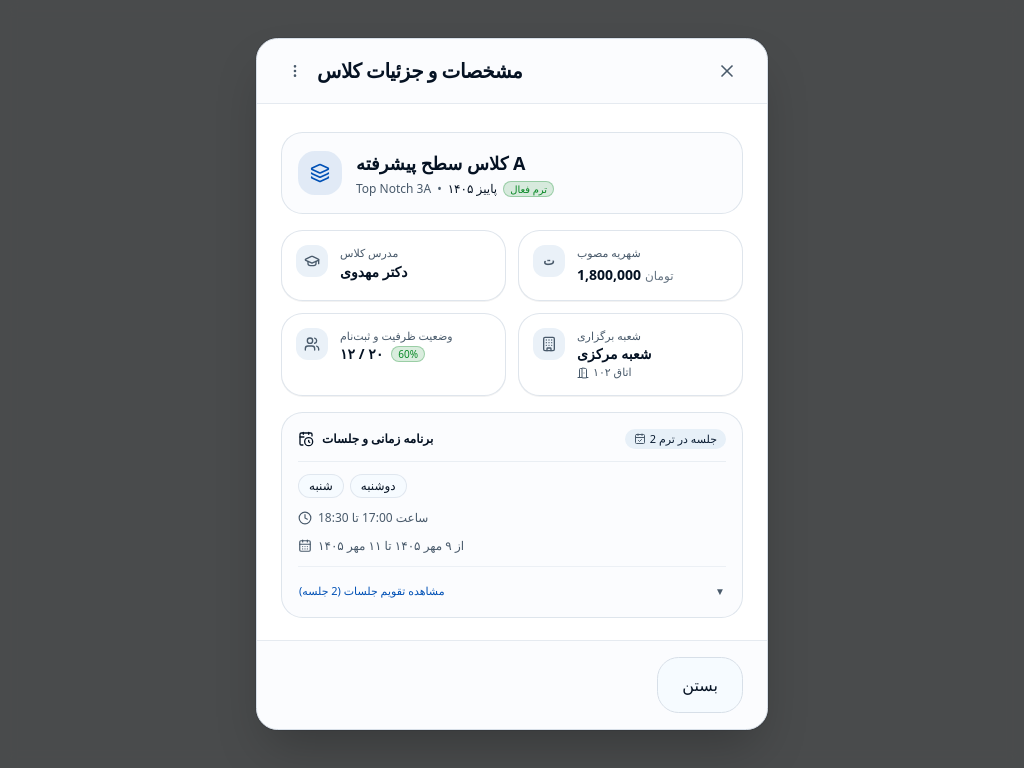
Test case: ClassDetailsModal Component › should toggle session dates list when clicking session dates toggle
Step 1. Click the text "مشاهده تقویم جلسات (2 جلسه)" → (372, 591), box [299, 583, 444, 599]
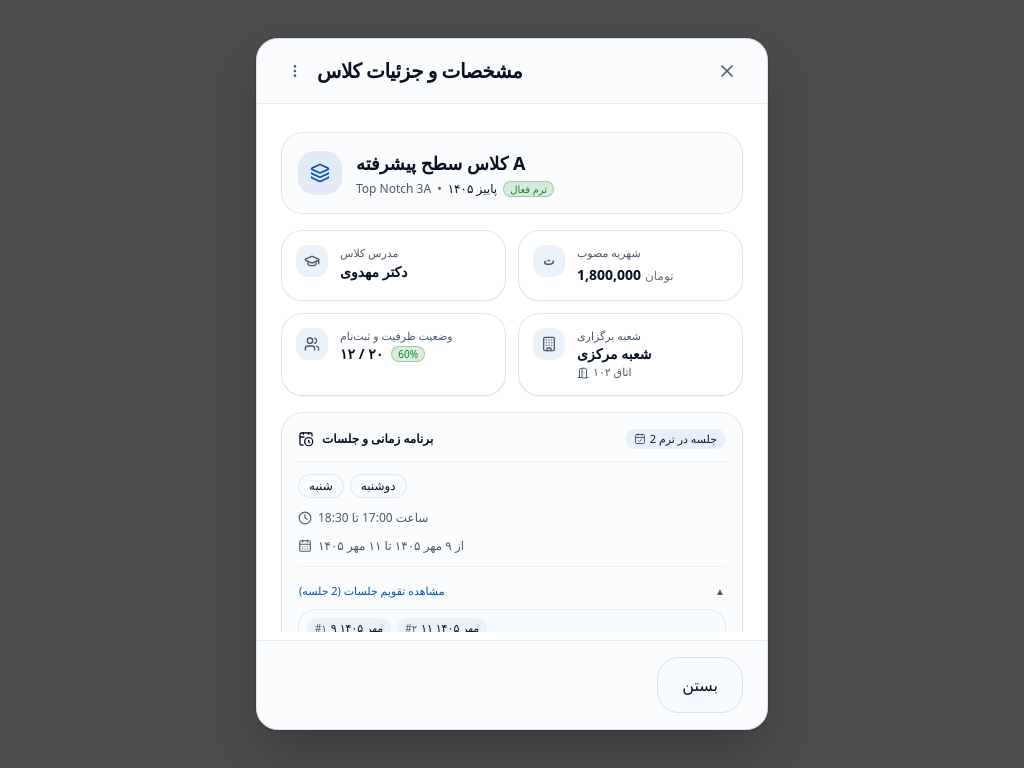
Expected: the text "#۱" is shown, [315, 621, 327, 632]
Expected: the text "#۲" is shown, [405, 621, 417, 632]
